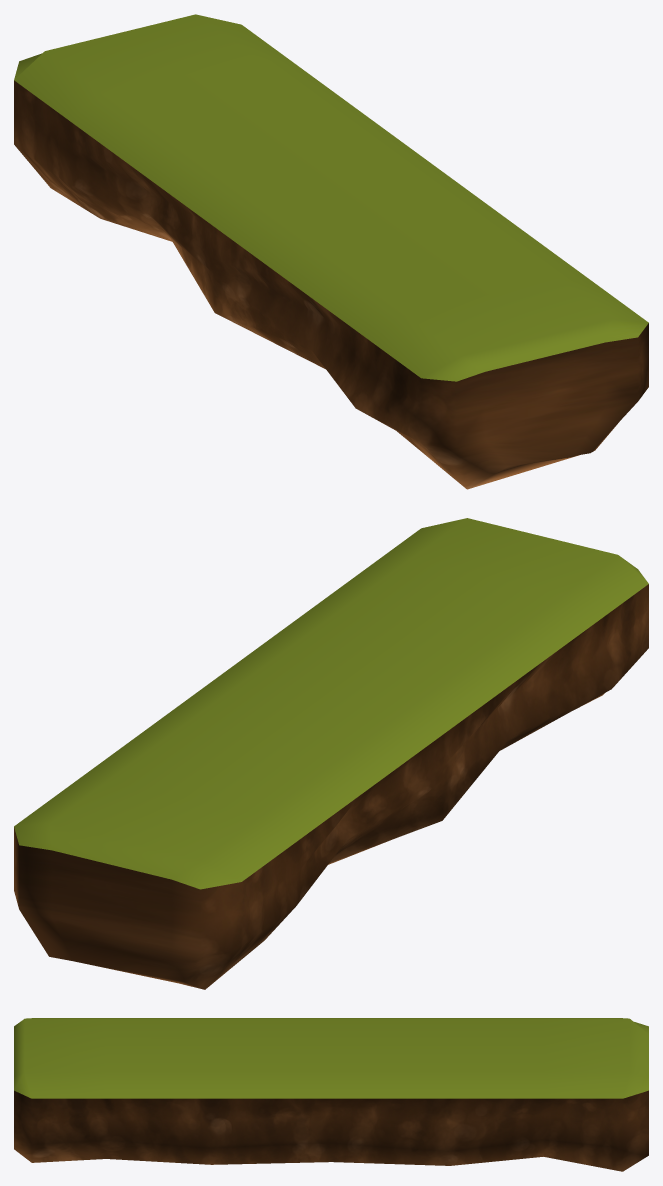
The model's file is IslandTest.fbx.
3 renders of one model, top to bottom at view 1: azimuth 30°, elevation 25°; view 2: azimuth 150°, elevation 25°; view 3: azimuth 270°, elevation 25°, orthographic. The views are drawn at different scales.
Parts seen in each view (by area): view 1: IslandTest; view 2: IslandTest; view 3: IslandTest.
Part boxes in pixels (x1=…): IslandTest: x1=14, y1=14, x2=648, y2=489; IslandTest: x1=14, y1=518, x2=648, y2=989; IslandTest: x1=14, y1=1018, x2=648, y2=1171.
Bounding box in the file's own units: 9.94 × 5.47 × 31.13.
1 material, 1 textured.
